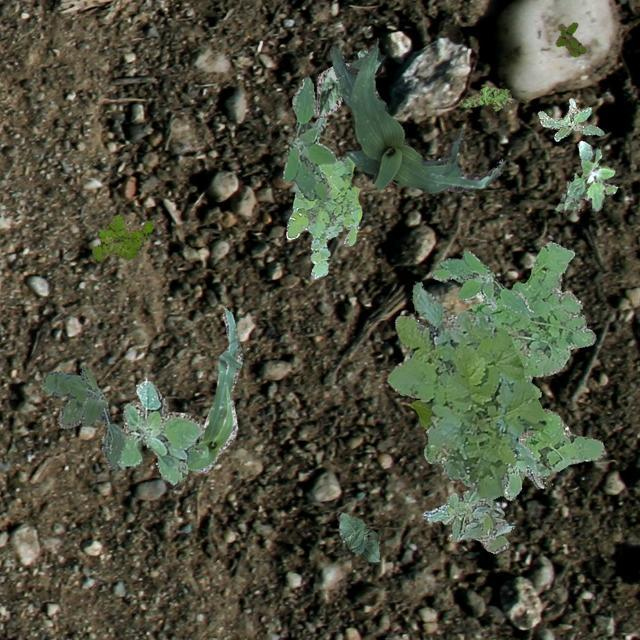crop: (328, 42, 502, 192), (158, 304, 242, 472), (314, 50, 384, 116), (336, 510, 380, 562), (410, 398, 430, 428)
weed: (422, 240, 604, 486), (386, 280, 544, 500), (116, 378, 202, 484), (286, 156, 360, 278), (42, 364, 125, 468), (430, 250, 532, 316), (282, 76, 334, 200), (422, 488, 514, 552), (554, 140, 616, 210), (502, 428, 548, 499), (536, 96, 604, 140), (90, 213, 152, 260), (458, 86, 511, 110), (554, 22, 584, 56)
